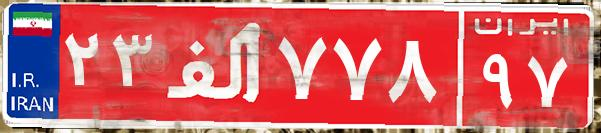2: (57, 26, 110, 107)
3: (110, 28, 158, 105)
7: (273, 28, 330, 110), (330, 28, 385, 110), (525, 38, 570, 115)
8: (385, 28, 445, 110)
9: (475, 38, 525, 113)
الف: (158, 15, 273, 115)
